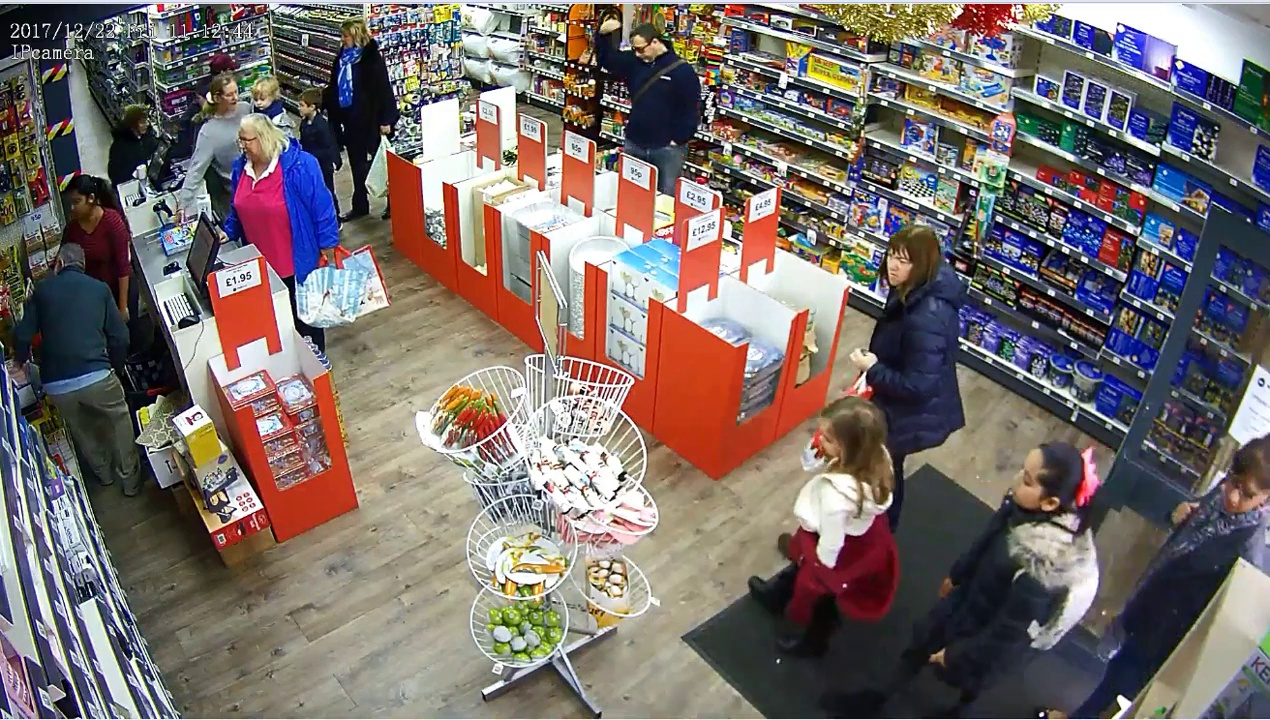face: (1008, 454, 1066, 510), (1222, 474, 1268, 518), (879, 244, 919, 289), (628, 32, 663, 65), (236, 125, 268, 161), (61, 195, 94, 221), (291, 96, 319, 118), (339, 26, 362, 52), (130, 109, 152, 136), (217, 83, 239, 108), (253, 83, 274, 108)
